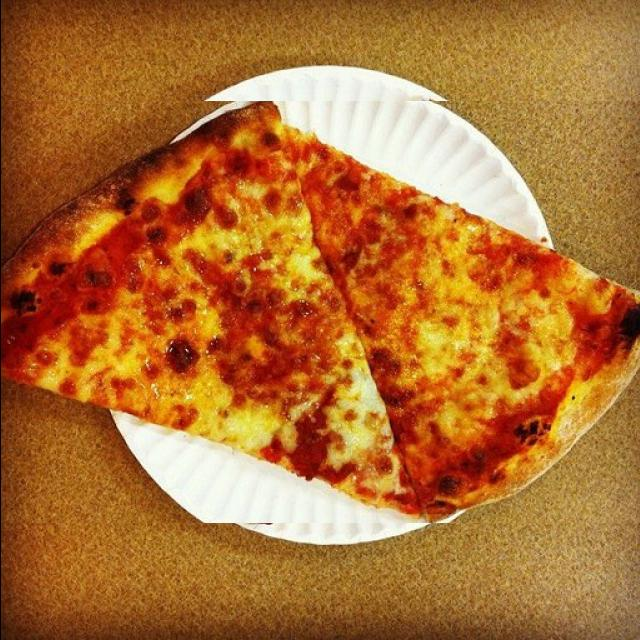pizza: (0, 101, 640, 523)
